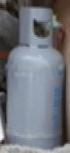cylinder: (1, 1, 70, 153)
